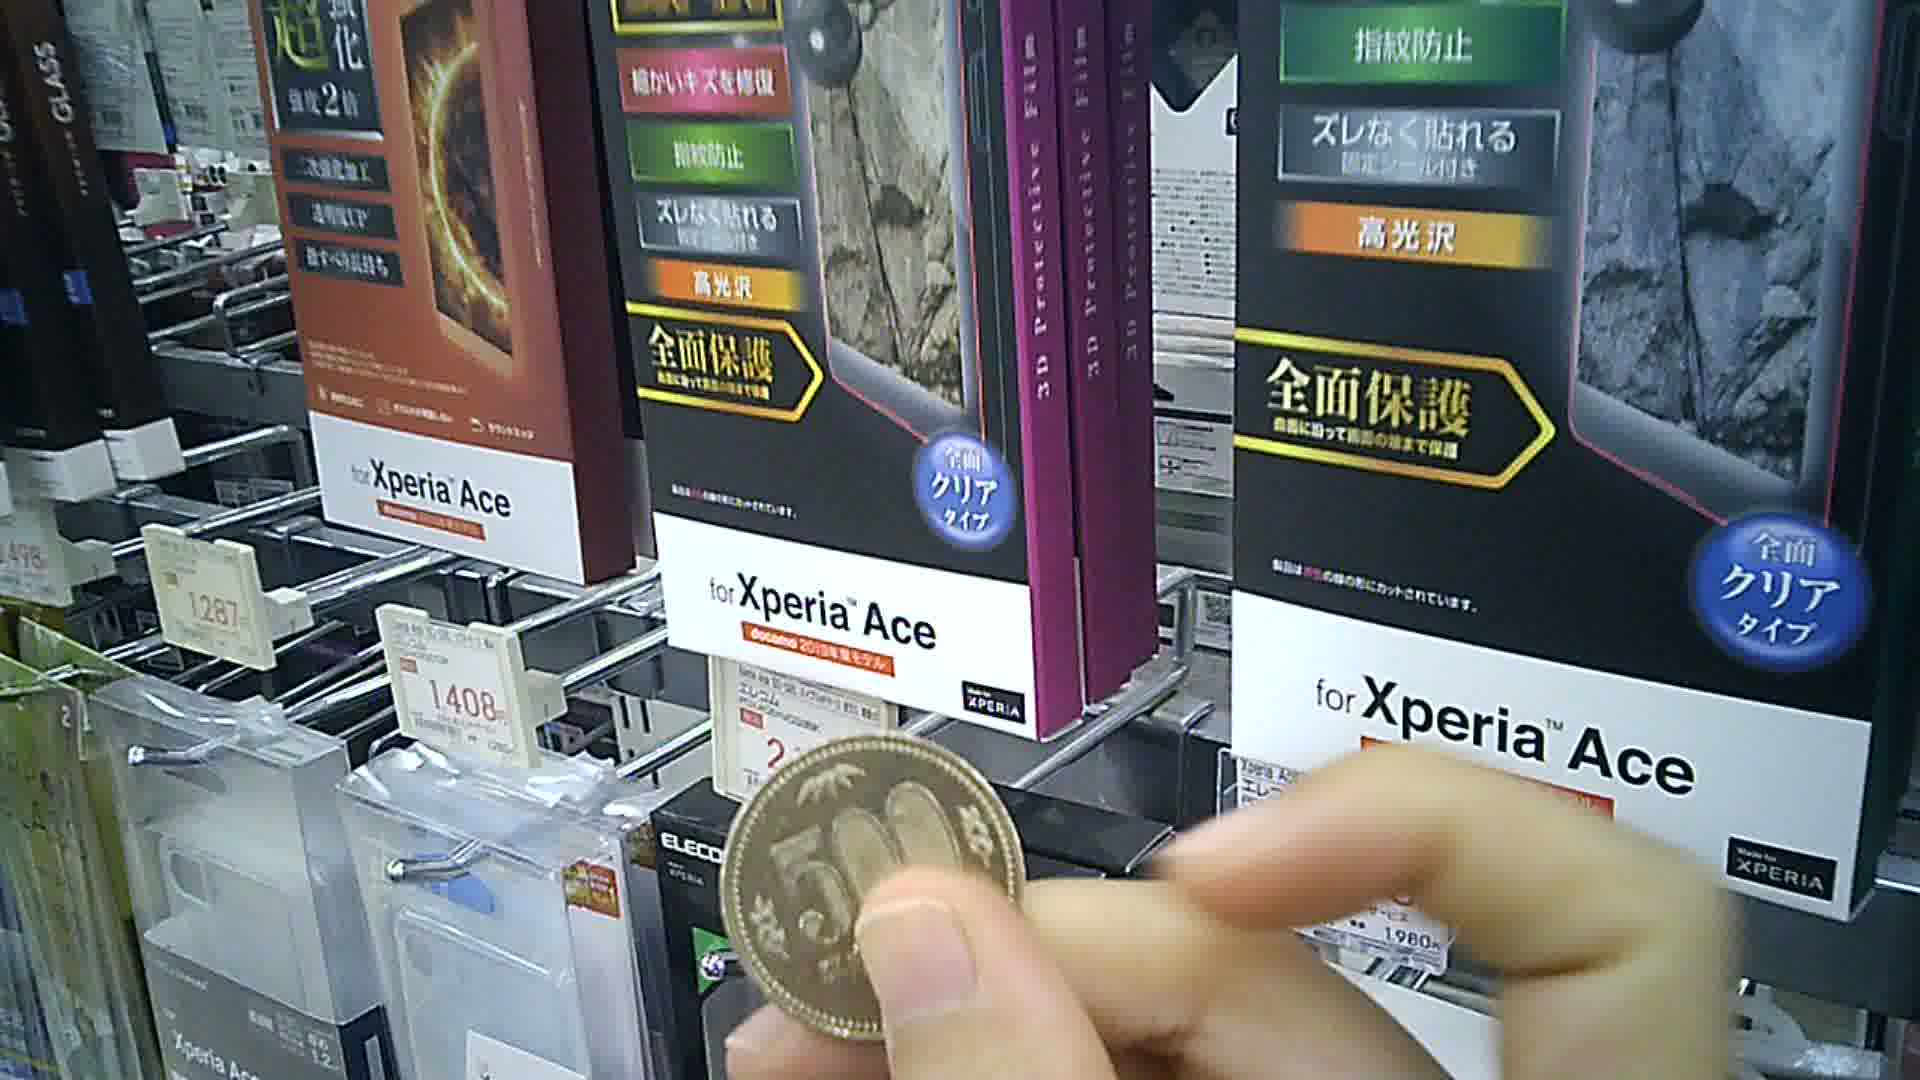500 Yen: (719, 728, 1030, 1042)
